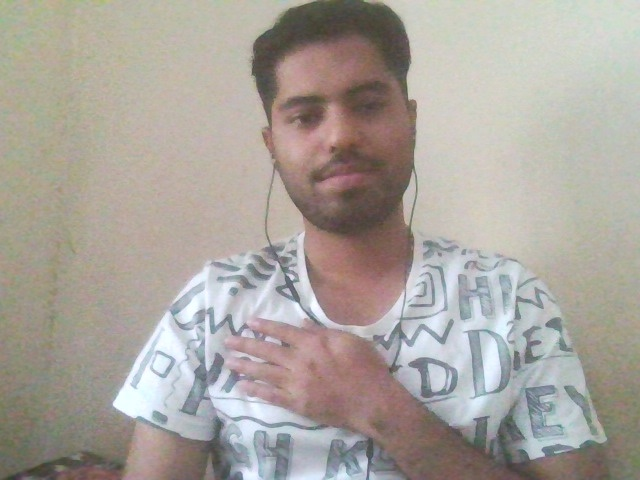Please: (201, 298, 415, 431)
